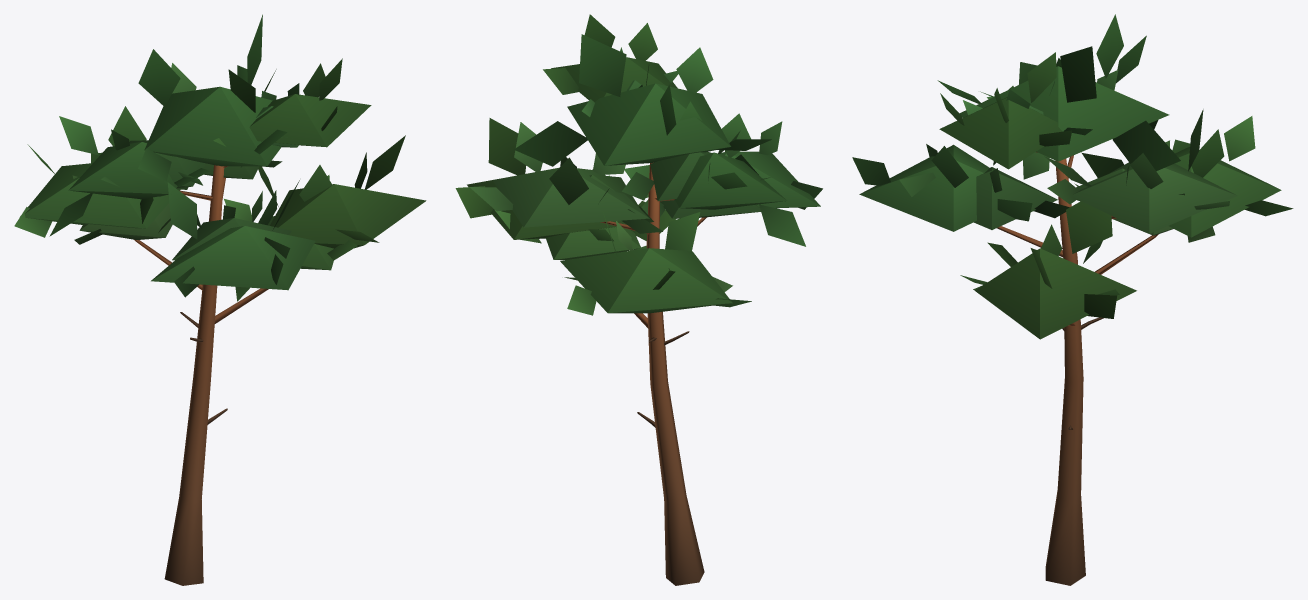
Rendered from pine_b_lod.glb.
The picture shows the model from 3 angles, left to right: view 1: azimuth 30°, elevation 25°; view 2: azimuth 150°, elevation 25°; view 3: azimuth 270°, elevation 25°; orthographic projection. The views are drawn at different scales.
Parts seen in each view (by area): view 1: pine_b_lod; view 2: pine_b_lod; view 3: pine_b_lod.
Boxes of the visible parts, <box> form: pine_b_lod: <box>14,14,426,585</box>; pine_b_lod: <box>455,14,822,585</box>; pine_b_lod: <box>852,14,1293,585</box>.
Bounding box in the file's own units: 6.9 × 9.83 × 6.8.
